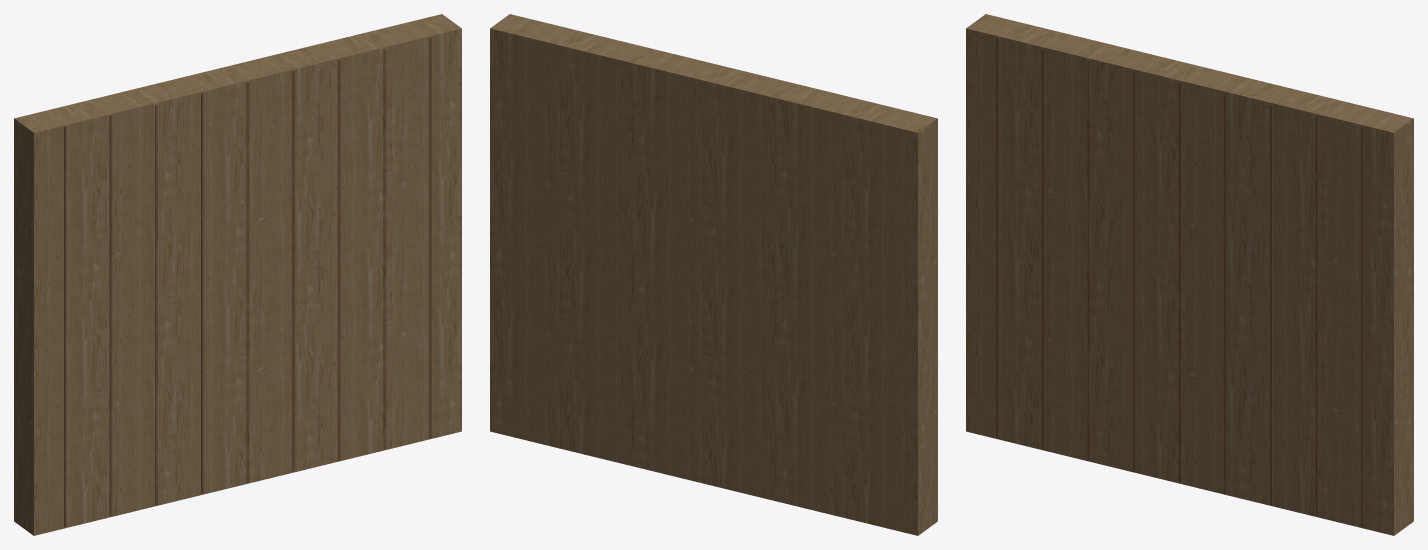
The model's file is build_wall.glb.
3 renders of one model, left to right at view 1: azimuth 30°, elevation 25°; view 2: azimuth 150°, elevation 25°; view 3: azimuth 330°, elevation 25°, orthographic.
Visible parts, largest first — view 1: wall; view 2: wall; view 3: wall.
Boxes of the visible parts, x1,y1,x2,y2 form: wall: (14, 14, 461, 535); wall: (490, 14, 937, 535); wall: (966, 14, 1413, 535).
Size of the model in its own units: 3 by 2.7 by 0.245.
Materials: 2 (2 with a texture image).
